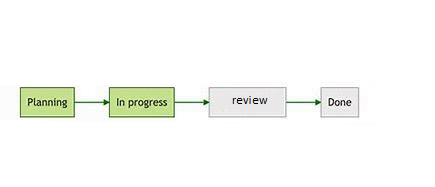arrow: (283, 98, 320, 106), (73, 98, 109, 106), (173, 98, 209, 106)
process: (206, 85, 289, 119), (106, 85, 177, 118), (18, 85, 75, 119), (318, 85, 360, 119)
text: (114, 96, 170, 108), (25, 95, 68, 109), (231, 94, 267, 104), (327, 97, 352, 107)
